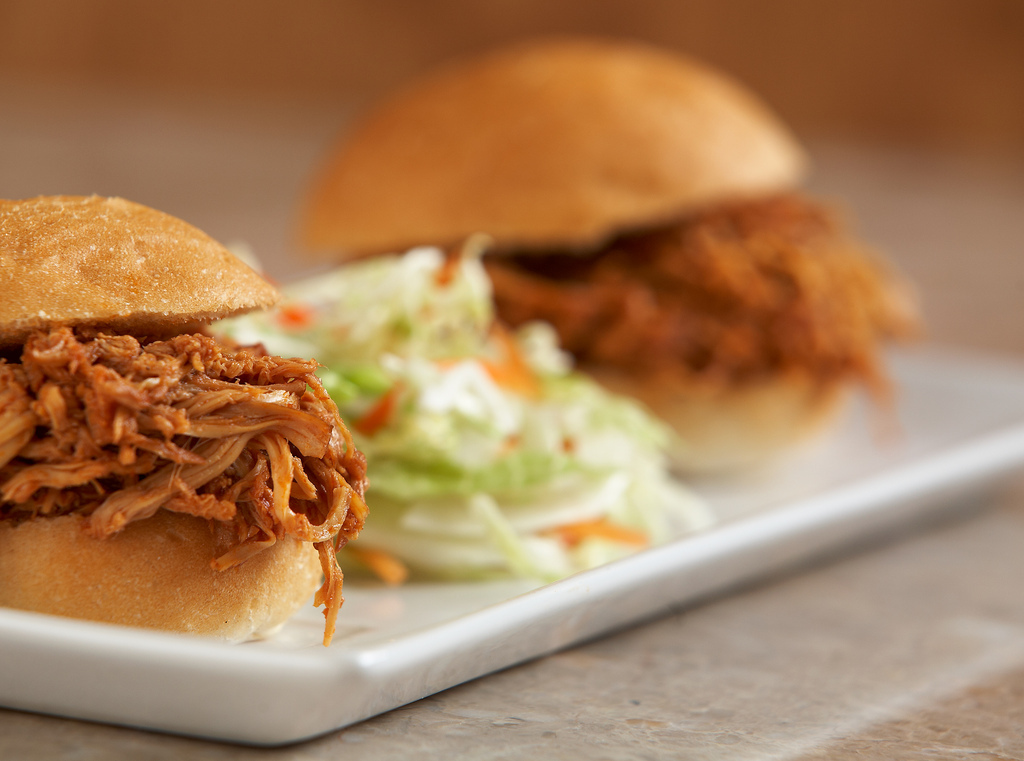Hamburger: (295, 36, 922, 470), (0, 198, 371, 649)
